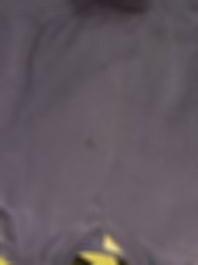oil: (81, 136, 99, 153)
